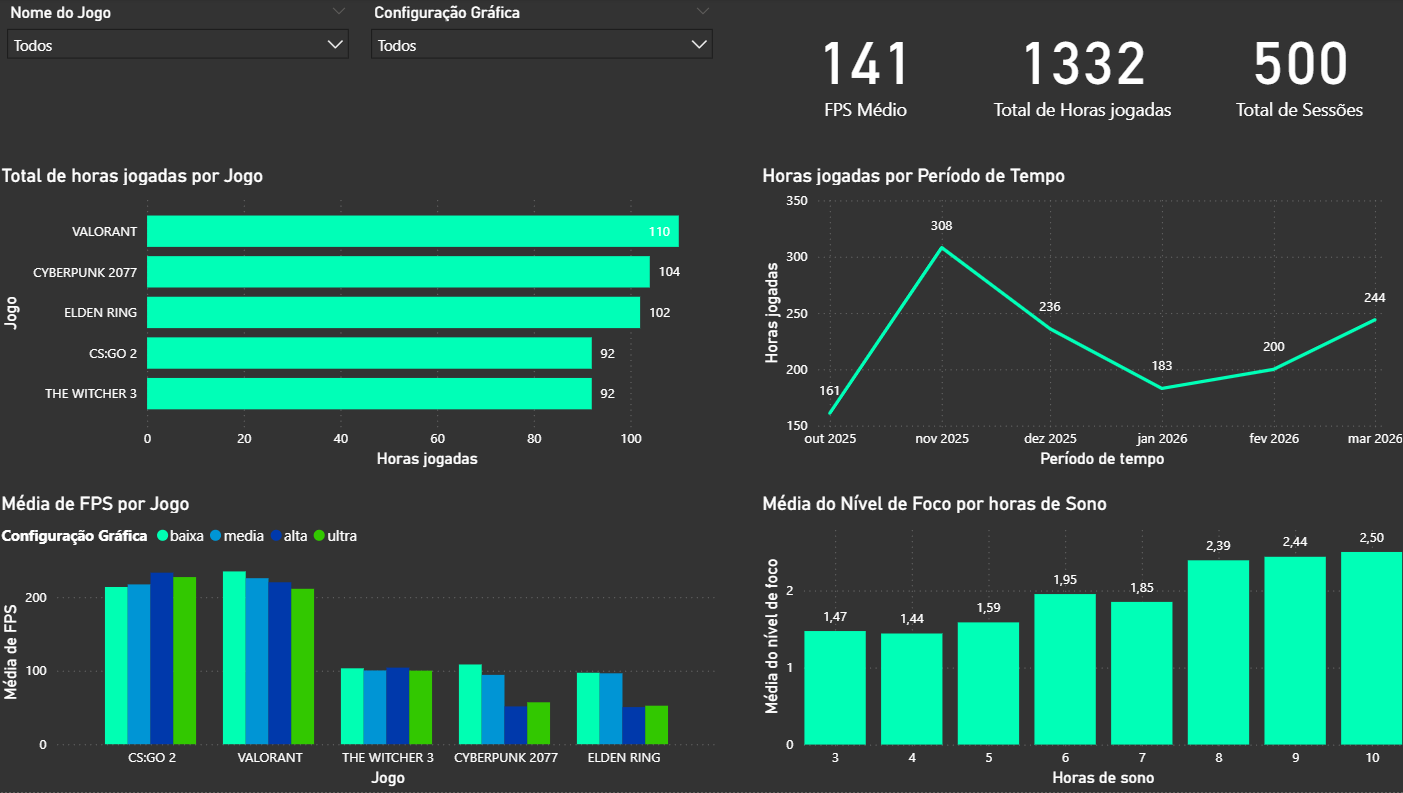

This screenshot's page, from the dashboard's own definition file:
{"tool":"powerbi","page":{"name":"Análise_Performance","canvas":[1280,720],"ordinal":0},"visuals":[{"type":"clusteredBarChart","title":"Total de horas jogadas por Jogo","fields":{"Category":["performance_analytics jogos.nome"],"Y":["CountNonNull(performance_analytics sessoes.horas_jogadas)"]},"box":[0,150.5,660.2,280.2],"z":0},{"type":"clusteredColumnChart","title":"Média de FPS por Jogo","fields":{"Category":["performance_analytics jogos.nome"],"Y":["Avg(performance_analytics sessoes.fps_medio)"],"Series":["performance_analytics sessoes.config_grafica"]},"box":[0,448,660.2,272],"z":1000},{"type":"lineChart","title":"Horas jogadas por Período de Tempo","fields":{"Y":["Sum(performance_analytics sessoes.horas_jogadas)"],"Category":["performance_analytics sessoes.data_sessao.Variation.Hierarquia de datas.Ano","performance_analytics sessoes.data_sessao.Variation.Hierarquia de datas.Mês"]},"box":[690.1,150.5,590.3,280.2],"z":2000},{"type":"clusteredColumnChart","title":"Média do Nível de Foco por horas de Sono","fields":{"Category":["performance_analytics sessoes.horas_sono"],"Y":["Avg(performance_analytics sessoes.nivel_foco)"]},"box":[690.1,448,590.3,272],"z":3000},{"type":"card","fields":{"Values":["Avg(performance_analytics sessoes.fps_medio)"]},"box":[690.1,0,196.8,124.2],"z":4000},{"type":"card","fields":{"Values":["Sum(performance_analytics sessoes.horas_jogadas)"]},"box":[886.9,0,196.8,124.2],"z":5000},{"type":"card","fields":{"Values":["CountNonNull(performance_analytics sessoes.id)"]},"box":[1083.6,0,196.8,124.2],"z":6000},{"type":"slicer","fields":{"Values":["performance_analytics jogos.nome"]},"box":[0,0,330.1,124.2],"z":7000},{"type":"slicer","fields":{"Values":["performance_analytics sessoes.config_grafica"]},"box":[330.1,0,330.1,124.2],"z":8000}]}

Visuals, with their boxes in screenshot pixels (x1, y1, x2, y2), scaled from the page's 1280x720 canvas onto the 1403x793 screenshot:
"Total de horas jogadas por Jogo" clusteredBarChart: Rect(0, 166, 724, 474)
"Média de FPS por Jogo" clusteredColumnChart: Rect(0, 493, 724, 792)
"Horas jogadas por Período de Tempo" lineChart: Rect(756, 166, 1402, 474)
"Média do Nível de Foco por horas de Sono" clusteredColumnChart: Rect(756, 493, 1402, 792)
card - Avg(performance_analytics sessoes.fps_medio): Rect(756, 0, 972, 137)
card - Sum(performance_analytics sessoes.horas_jogadas): Rect(972, 0, 1188, 137)
card - CountNonNull(performance_analytics sessoes.id): Rect(1188, 0, 1402, 137)
slicer - performance_analytics jogos.nome: Rect(0, 0, 362, 137)
slicer - performance_analytics sessoes.config_grafica: Rect(362, 0, 724, 137)
